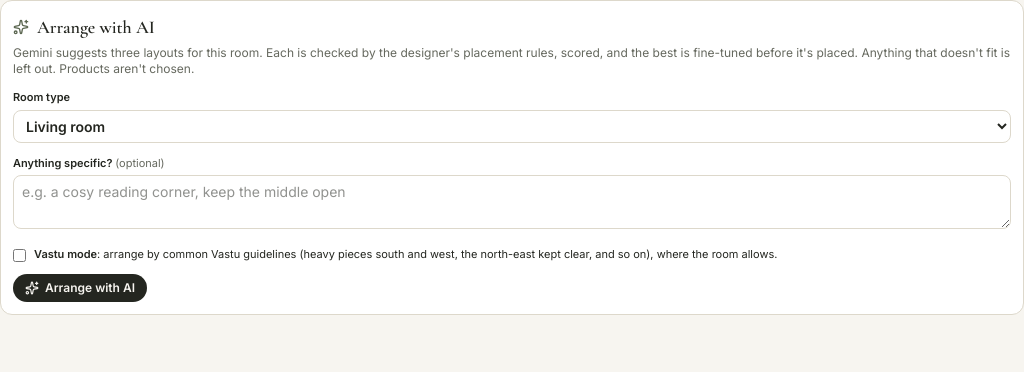
AiLayoutPanel › says how many pieces were moved a little to fit
The image size is (1024, 372).
Click the button "Arrange with AI" at (80, 288), box 13,274 -> 147,302
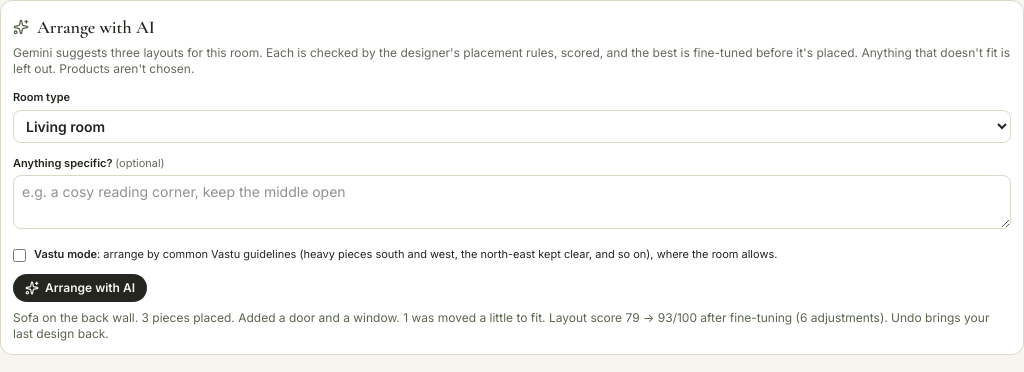
Check: the text "3 pieces placed. Added a door and a window. 1 was moved a little to fit." is shown, box 13,310 -> 989,341
